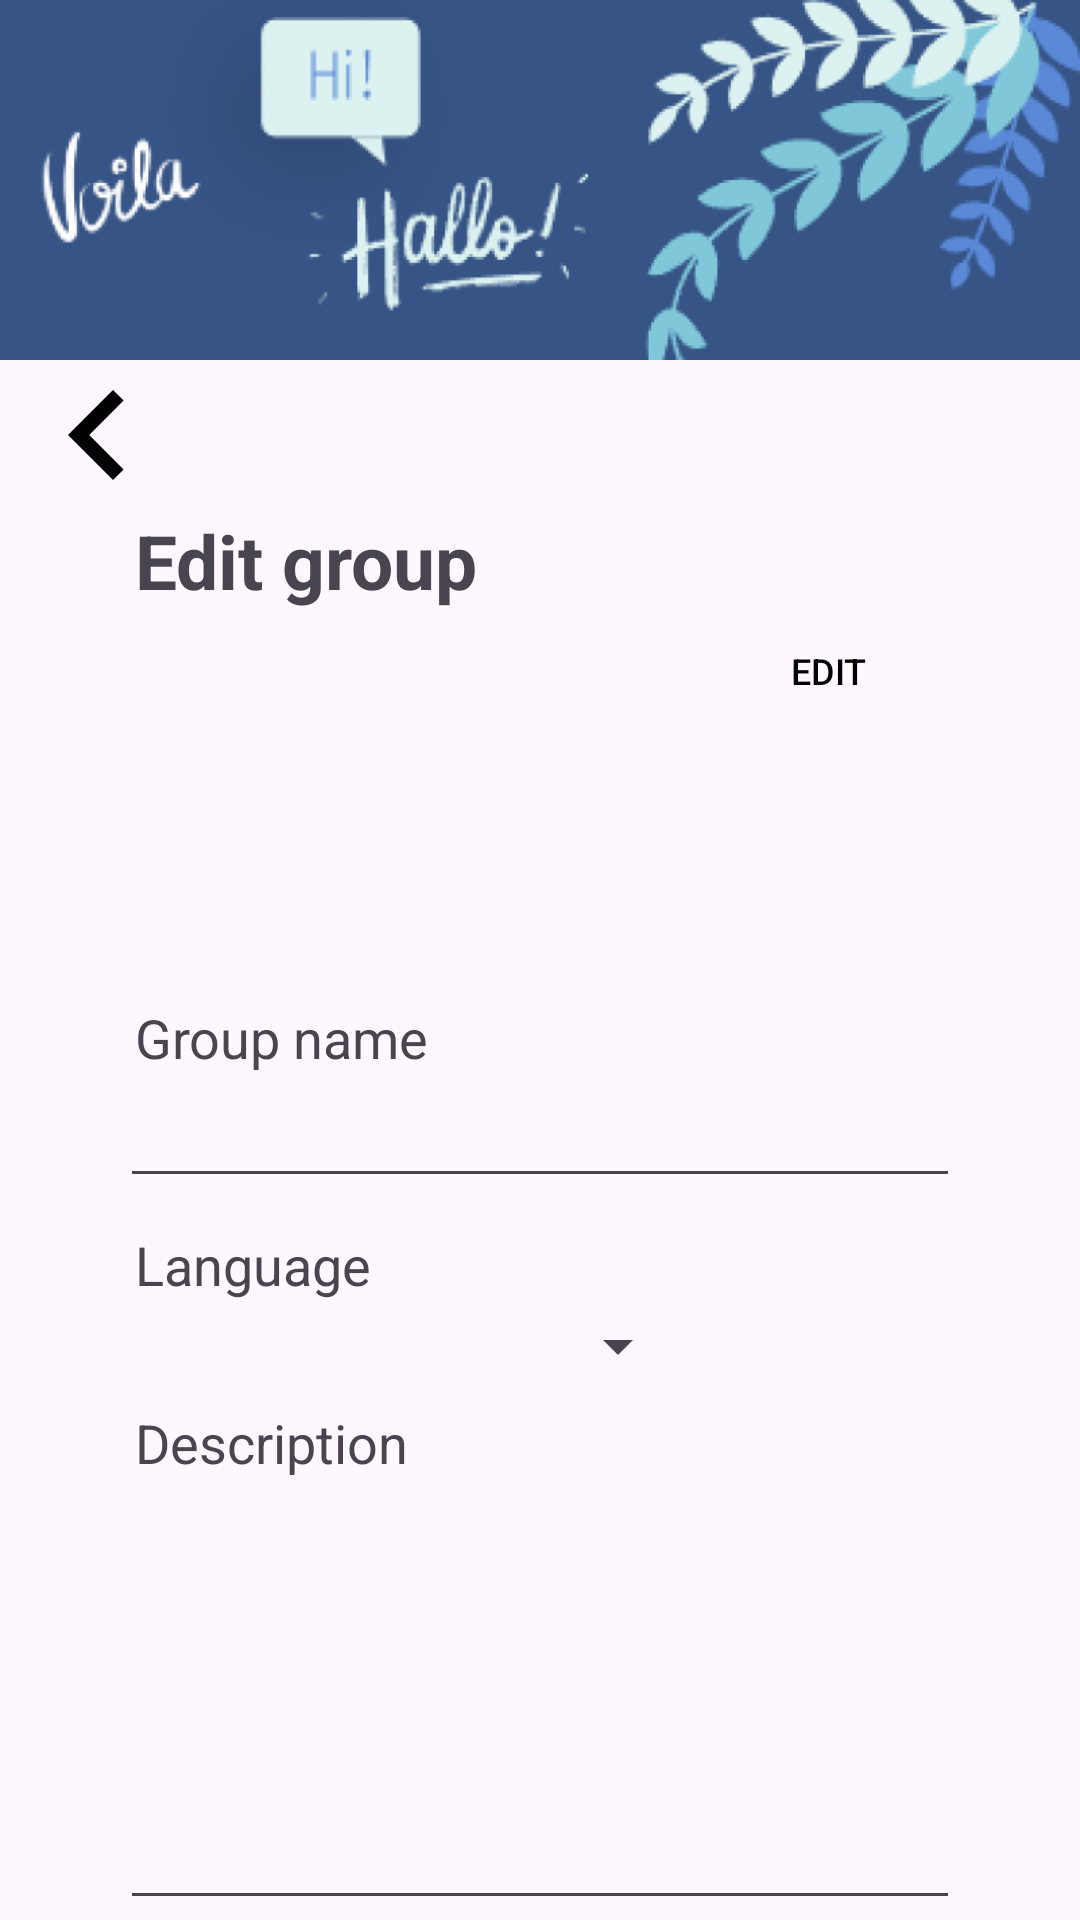

Where icons sit on this 1080 x 1920 app screen, as BBox(x1, y1, x2, y2):
chevron left: BBox(68, 390, 124, 480)
